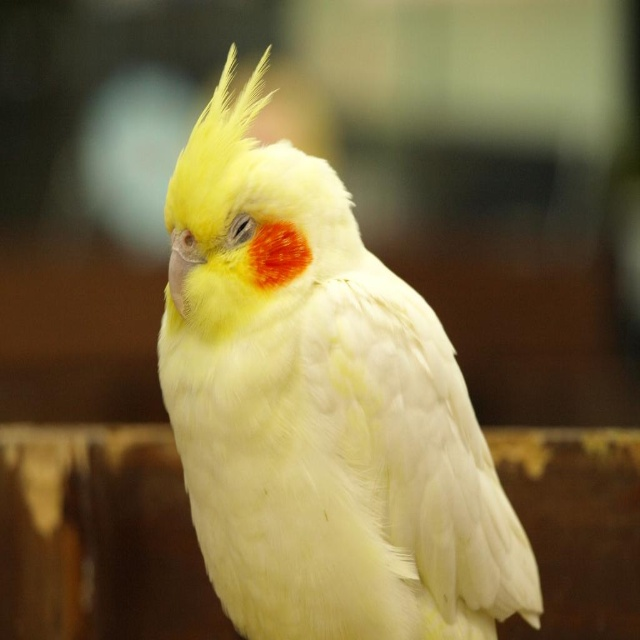Parrot: (157, 37, 546, 639)
